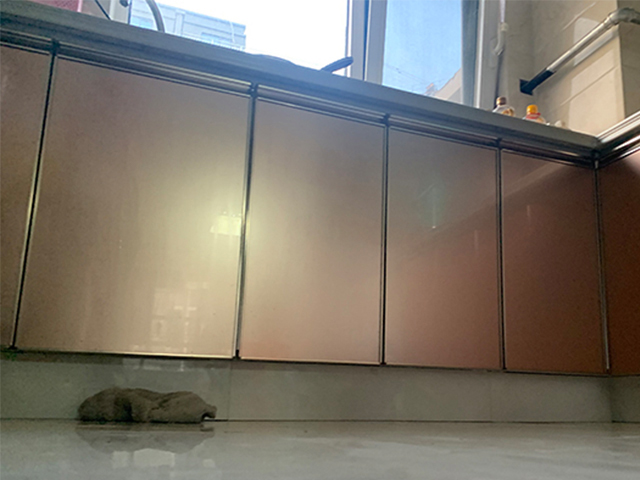cabinet: (1, 1, 638, 423)
